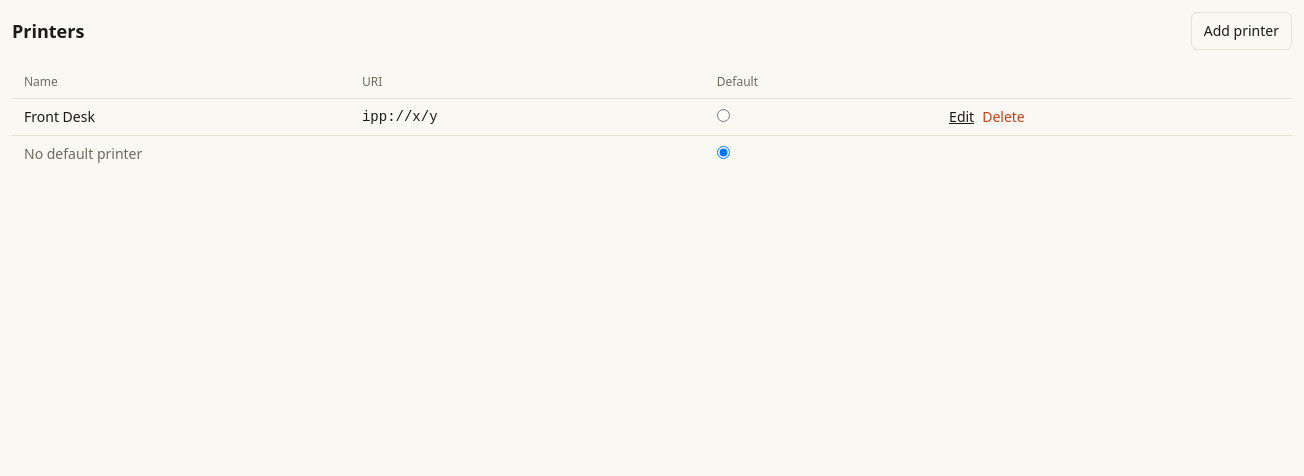
PrintersSection › blocks an invalid printer id client-side
This screenshot has width=1304, height=476.
Expected: the text "Front Desk" is shown, [12,98,350,136]
Click the button "Add printer" at (1241, 31), box [1191,12,1292,50]
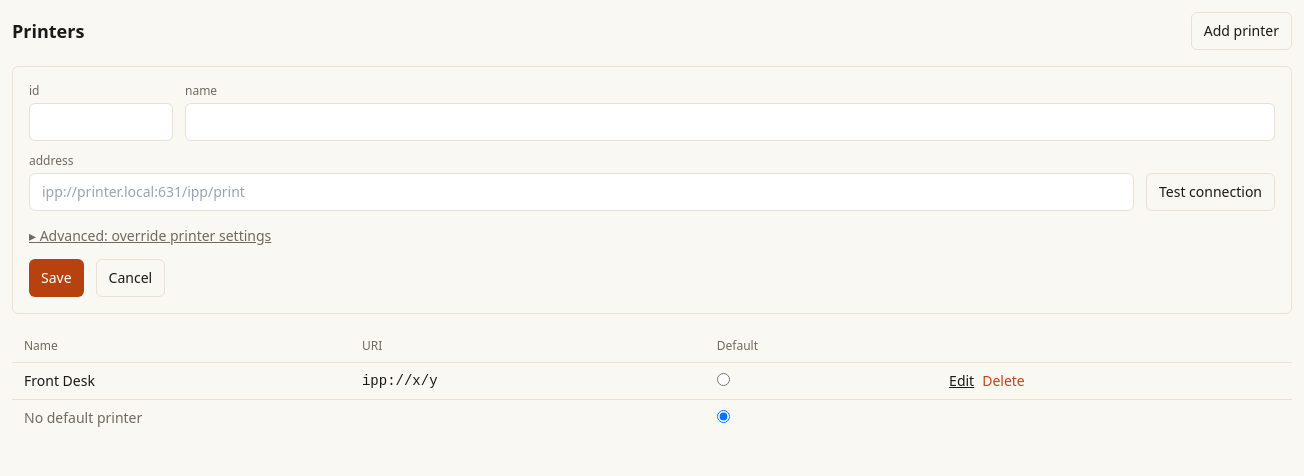
Type "bad id" into the field named "printer id" at (101, 122), box [29,103,173,141]
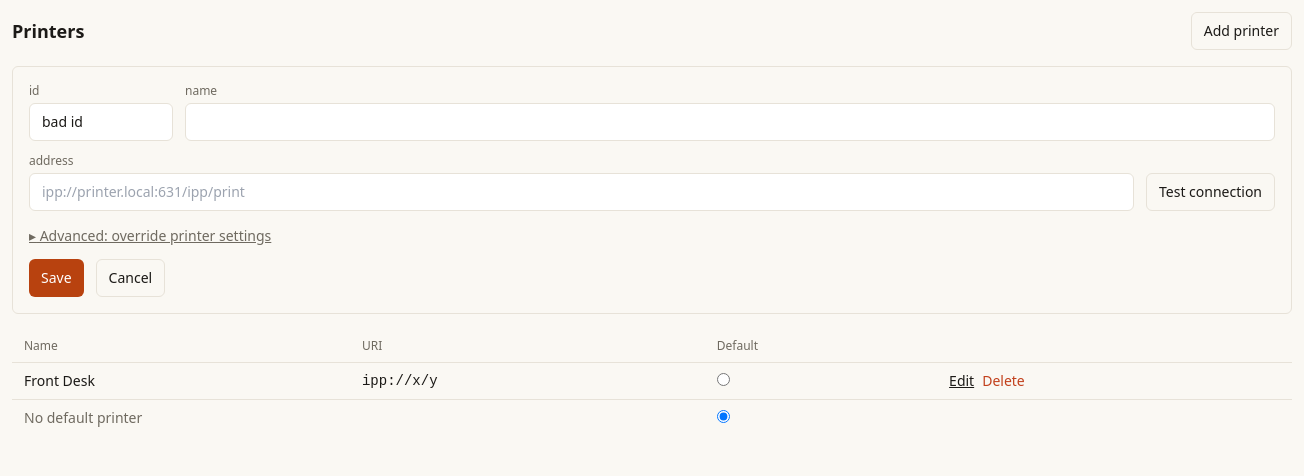
Type "X" into the field named "printer name" at (730, 122), box [185,103,1275,141]
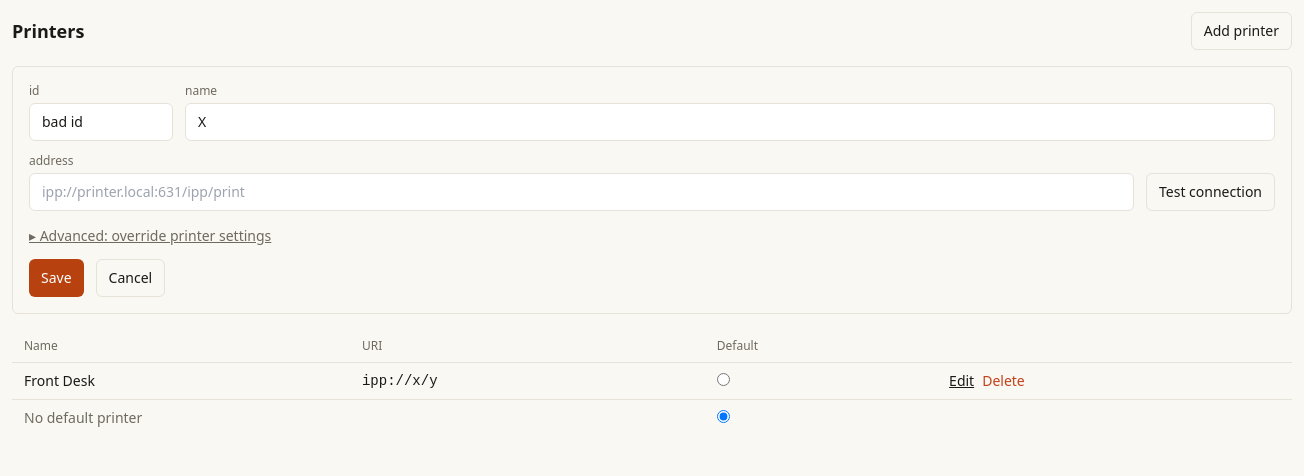
Type "ipp://b/q" into the field labelled "address" at (582, 192), box [29,173,1134,211]
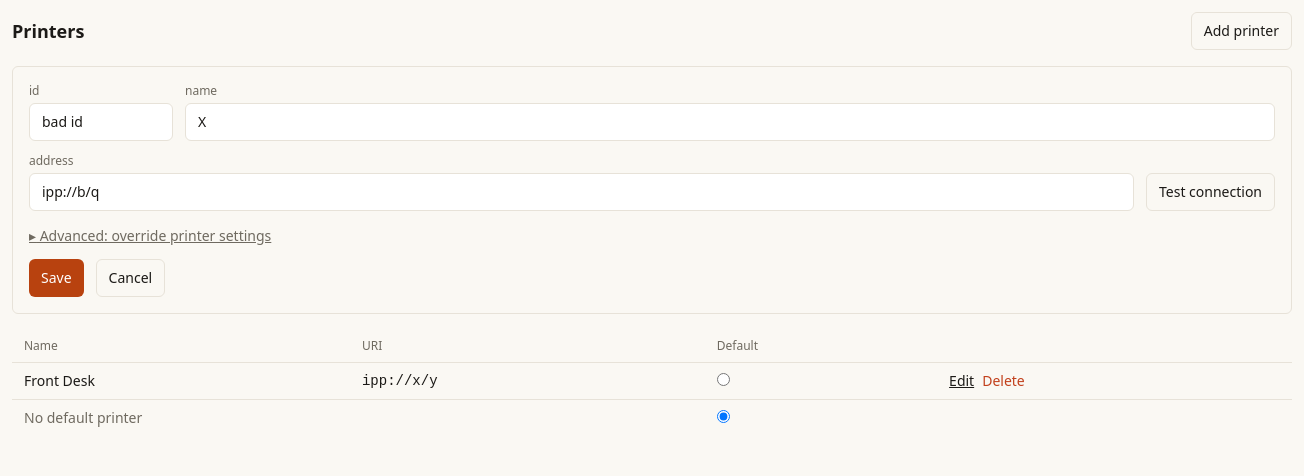
Click the button "Save" at (56, 278), box [29,259,84,297]
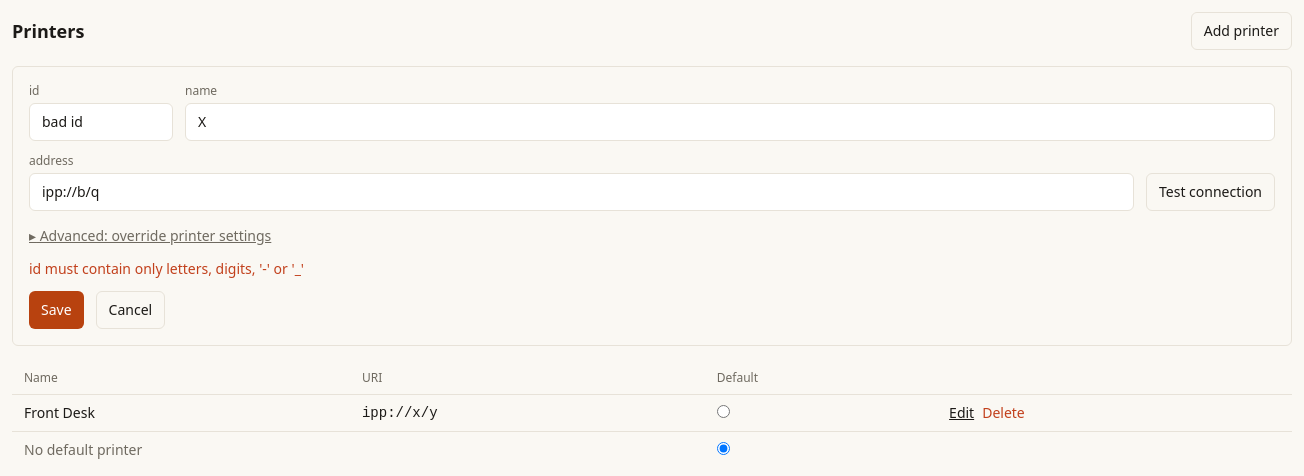
Expected: the text "id must contain only letters, digits, '-' or '_'" is shown, [29,259,304,278]
